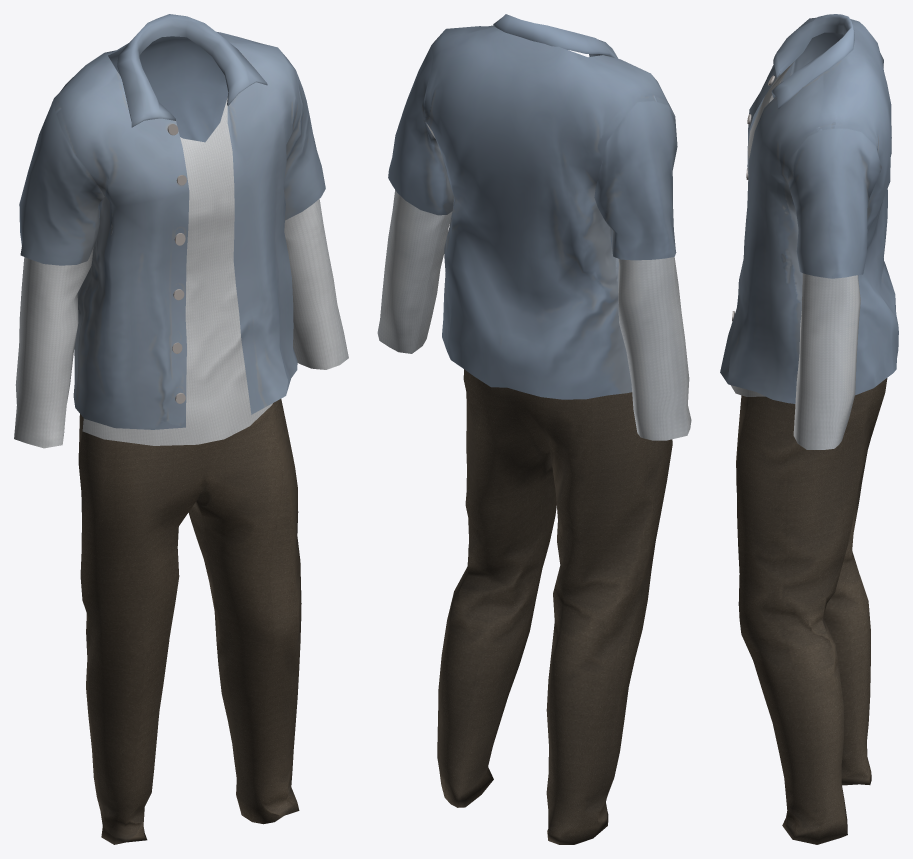
File: Double Shirt 1.fbx
3 renders of one model, left to right at view 1: azimuth 30°, elevation 25°; view 2: azimuth 150°, elevation 25°; view 3: azimuth 270°, elevation 25°, orthographic. The views are drawn at different scales.
Parts seen in each view (by area): view 1: Double Shirt; view 2: Double Shirt; view 3: Double Shirt.
Boxes of the visible parts, <box> form: Double Shirt: <box>14,14,348,844</box>; Double Shirt: <box>377,14,691,844</box>; Double Shirt: <box>720,14,898,844</box>.
Bounding box in the file's own units: 64.08 × 155 × 32.32.
1 material, 1 textured.
